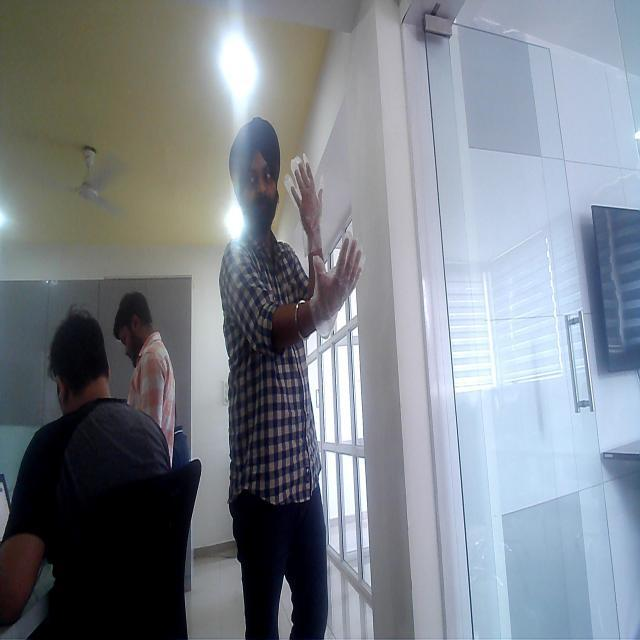with_gloves: (312, 224, 364, 340), (288, 156, 326, 214)
